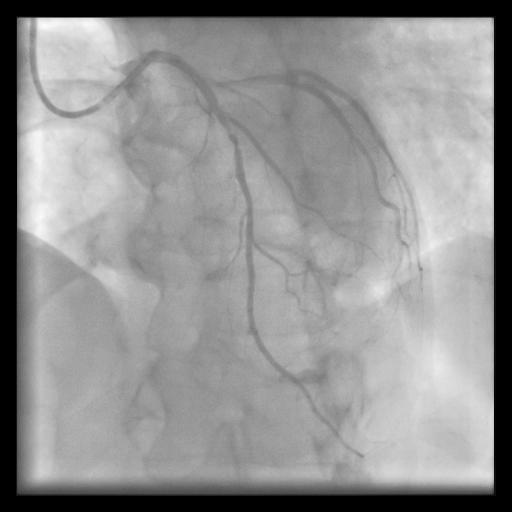Stenosis: (217, 117, 241, 161)
